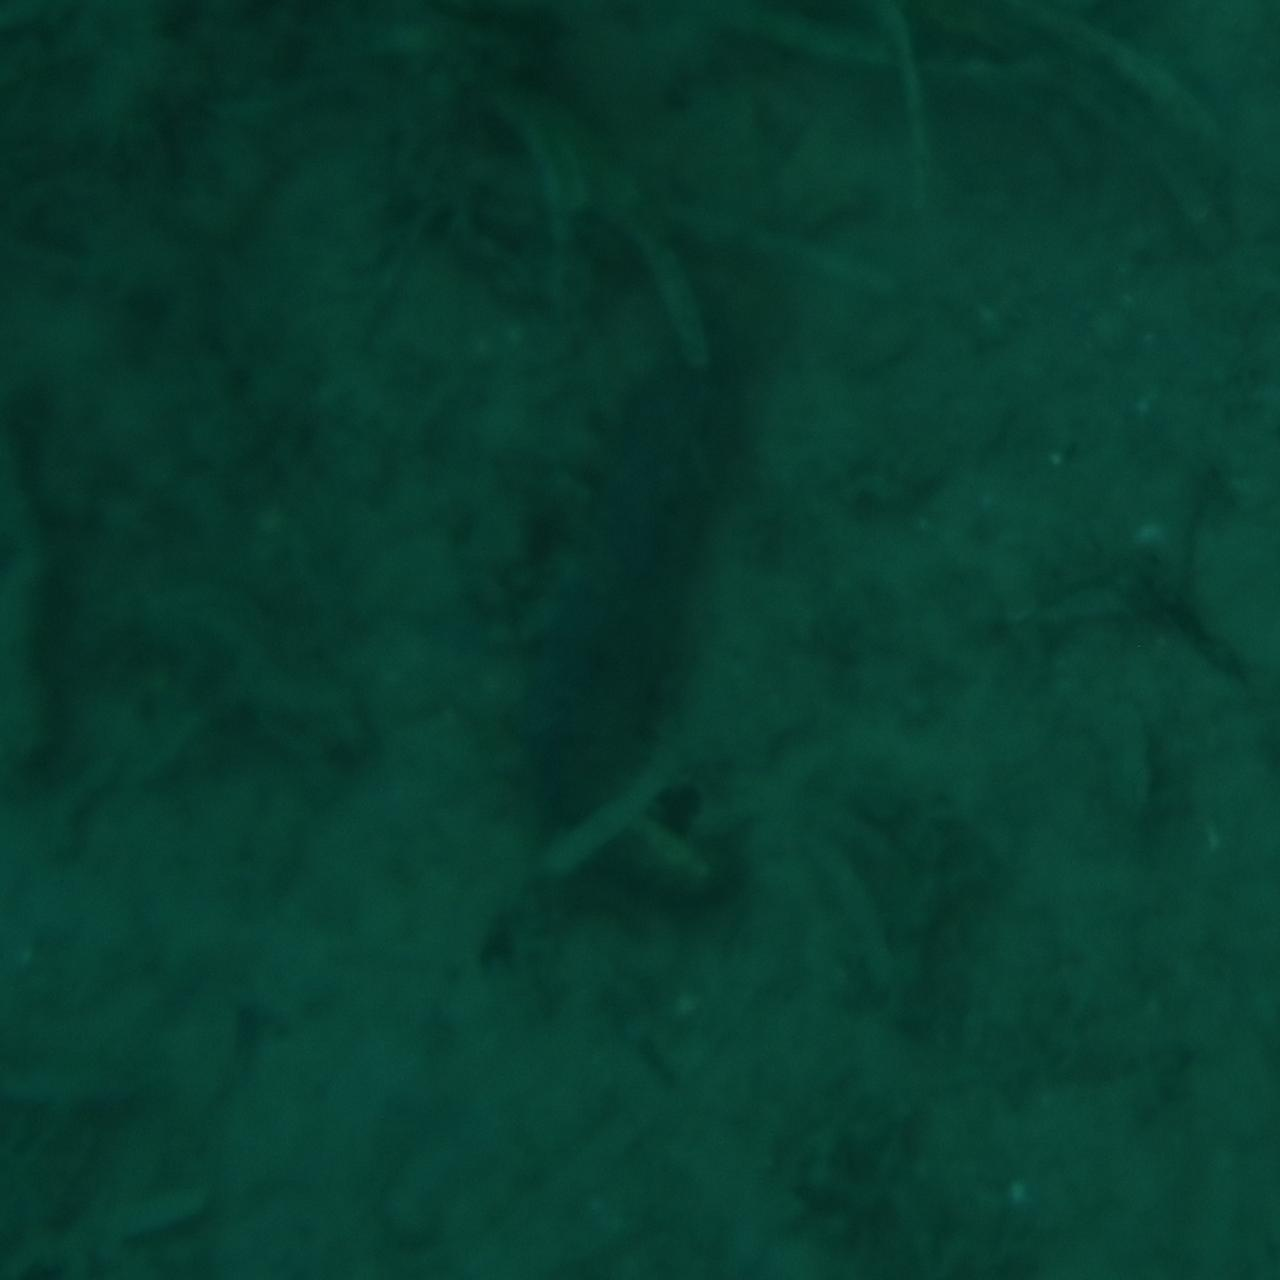Holothuria tubulosa: (524, 365, 756, 915)
